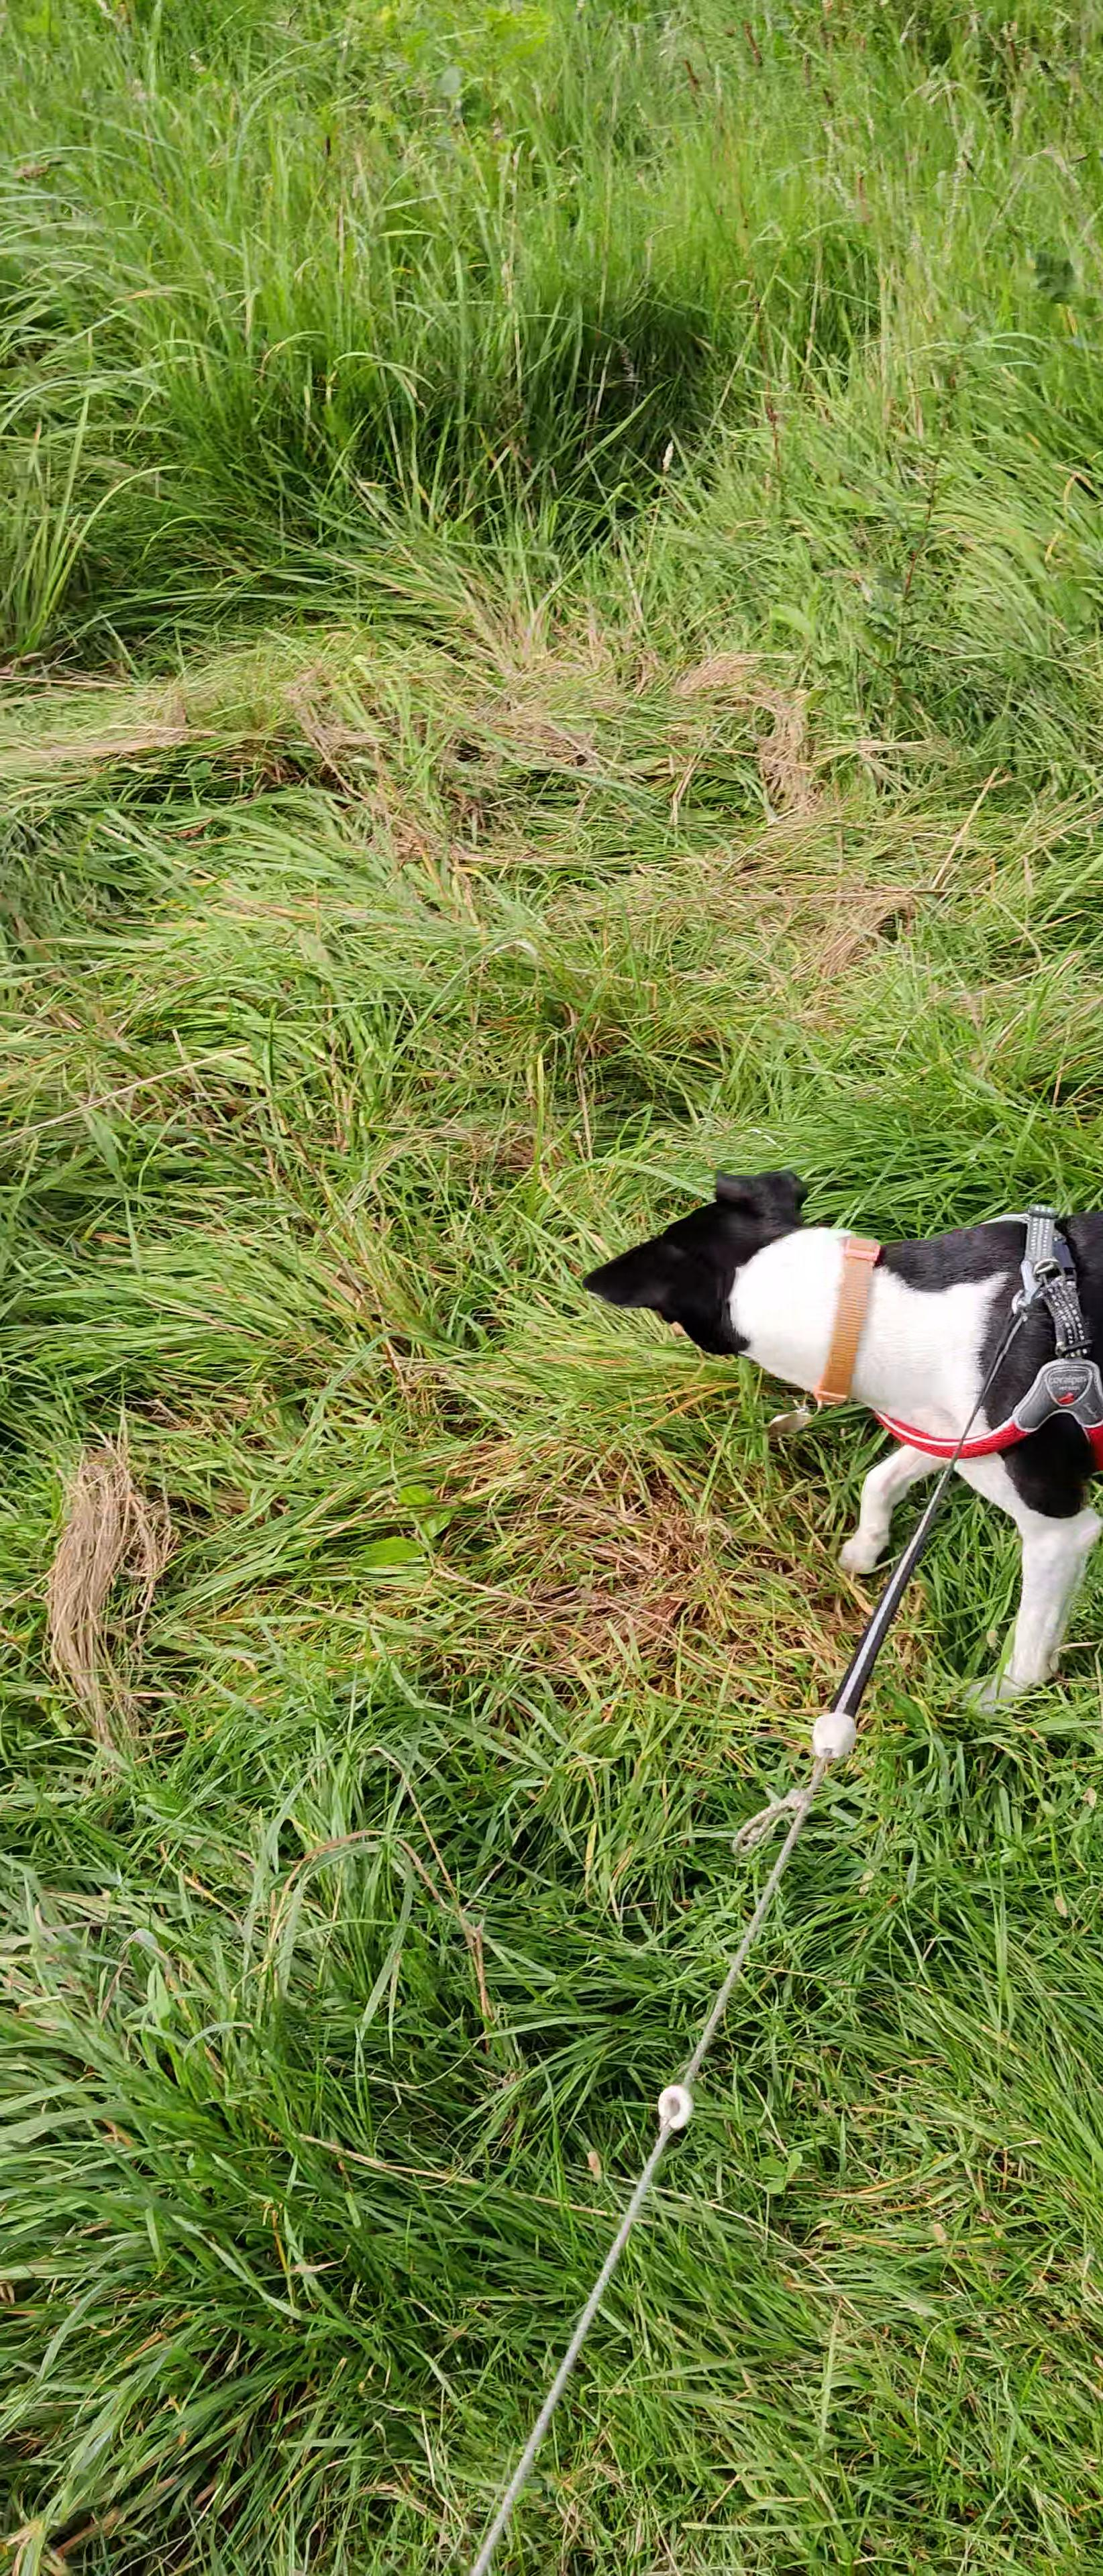Dog: (551, 1138, 1103, 1738)
